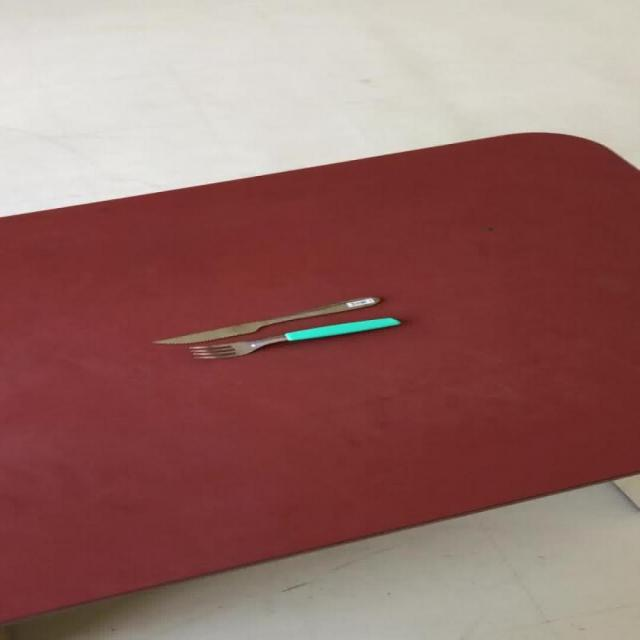Fork: (188, 316, 400, 359)
Knife: (149, 295, 381, 345)
